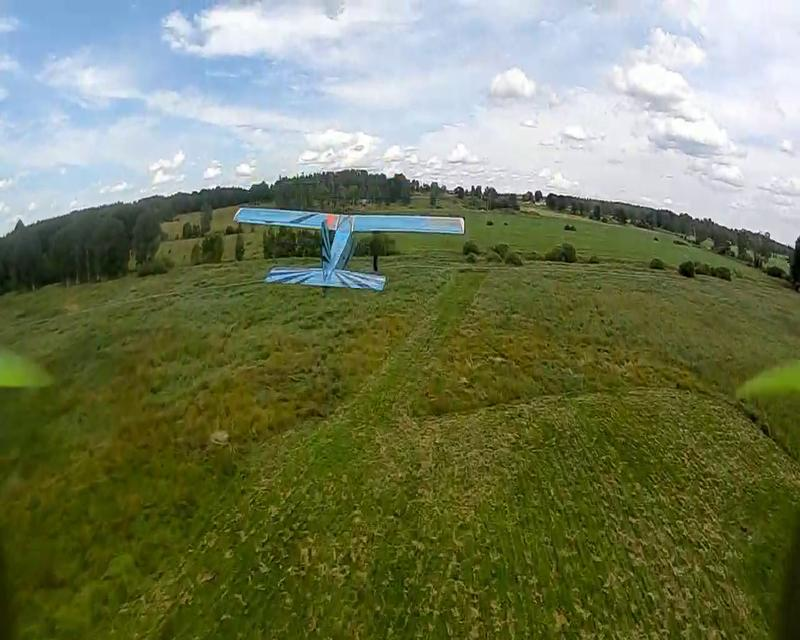UAV: (231, 205, 465, 293)
